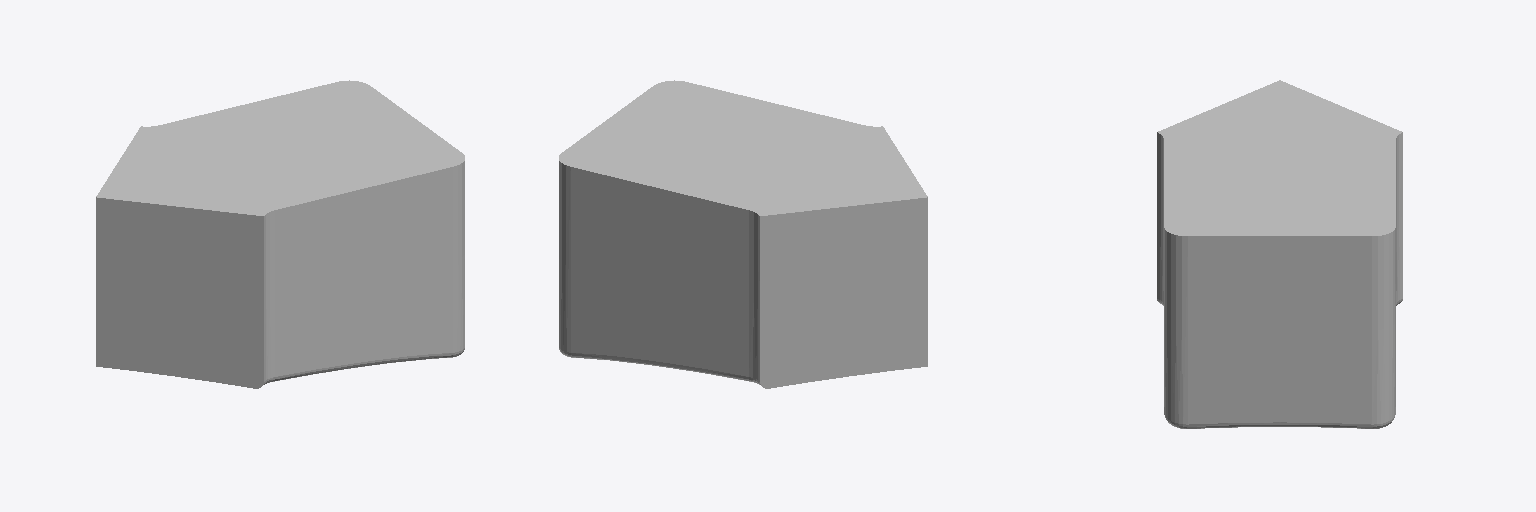
The model's file is DPadRight.obj.
3 views of the same model, side by side, from view 1: azimuth 30°, elevation 25°; view 2: azimuth 150°, elevation 25°; view 3: azimuth 270°, elevation 25° (orthographic).
Parts seen in each view (by area): view 1: DPadRight; view 2: DPadRight; view 3: DPadRight.
Part boxes in pixels (x1,y1,x2,y2): DPadRight: (96, 80, 464, 388); DPadRight: (559, 80, 927, 388); DPadRight: (1157, 80, 1402, 428).
Size of the model in its own units: 9.25 by 5.39 by 6.15.